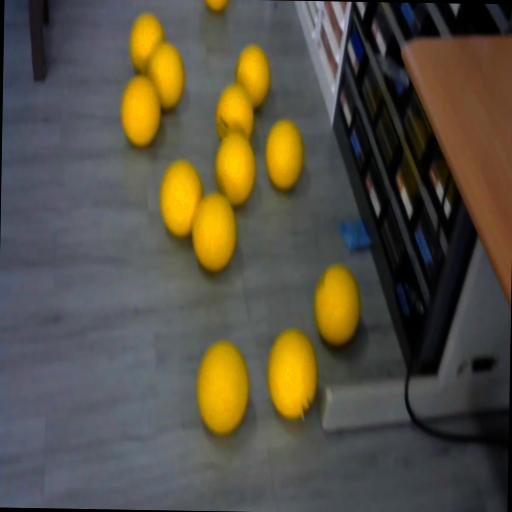FUEL: (194, 339, 250, 435), (266, 328, 320, 420), (312, 262, 362, 348), (190, 190, 238, 272), (158, 159, 204, 237), (213, 130, 257, 206), (120, 76, 161, 146), (265, 119, 305, 190), (146, 42, 186, 110), (235, 44, 271, 108), (203, 0, 230, 13)
